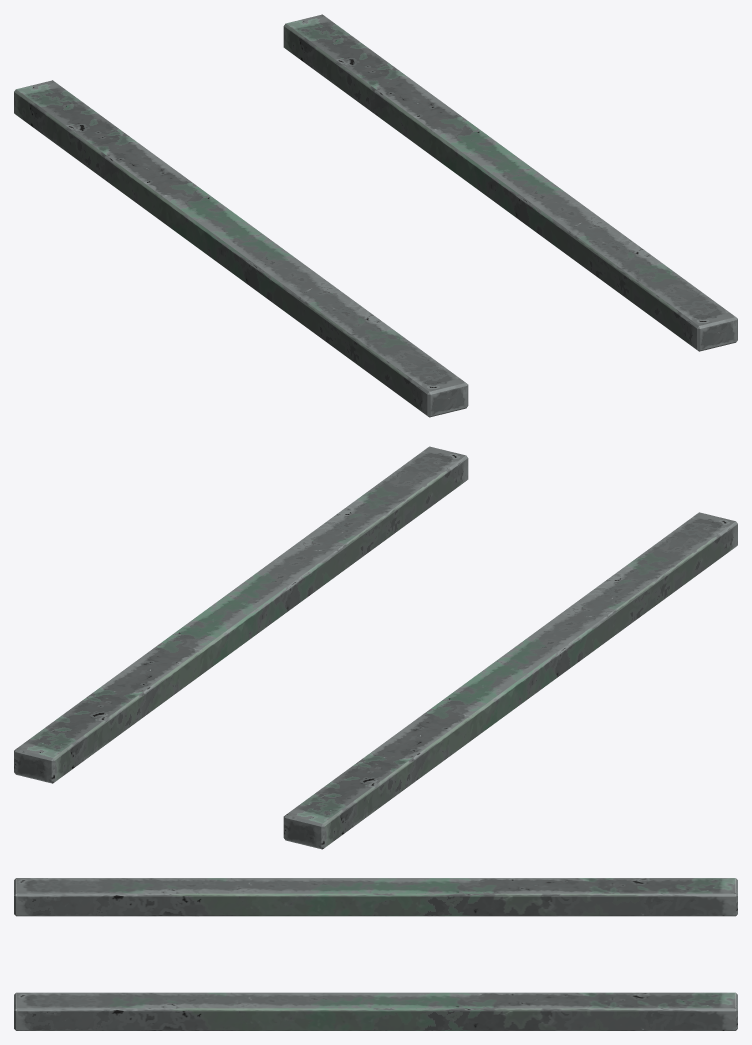
The model's file is roadplane.fbx.
3 views of the same model, one above another, from view 1: azimuth 30°, elevation 25°; view 2: azimuth 150°, elevation 25°; view 3: azimuth 270°, elevation 25° (orthographic). The views are drawn at different scales.
Parts seen in each view (by area): view 1: roadplanecube; view 2: roadplanecube; view 3: roadplanecube.
Boxes of the visible parts, x1,y1,x2,y2 form: roadplanecube: (14,14,737,417); roadplanecube: (14,446,737,849); roadplanecube: (14,878,737,1030).
Bounding box in the file's own units: 1520 × 120 × 3523.
